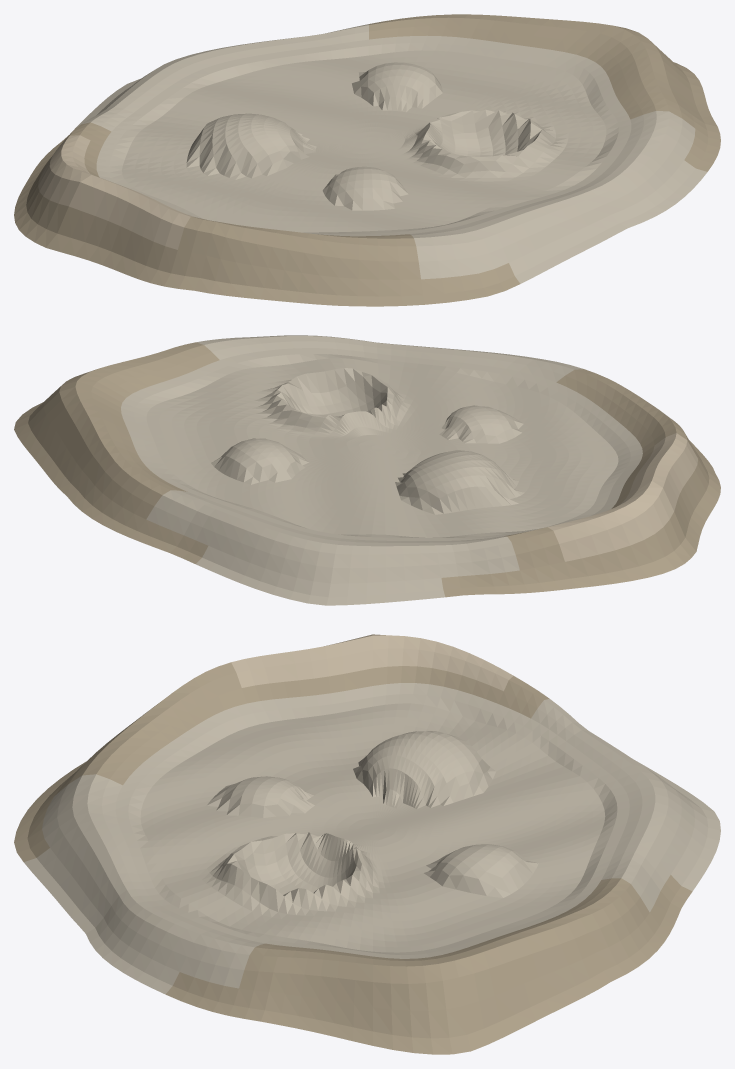
3 renders of one model, top to bottom at view 1: azimuth 30°, elevation 25°; view 2: azimuth 150°, elevation 25°; view 3: azimuth 270°, elevation 25°, orthographic. The views are drawn at different scales.
Visible parts, largest first — view 1: mudpot-world-surface-surface; view 2: mudpot-world-surface-surface; view 3: mudpot-world-surface-surface.
Boxes of the visible parts, x1,y1,x2,y2 form: mudpot-world-surface-surface: (14,14,720,306); mudpot-world-surface-surface: (14,335,720,605); mudpot-world-surface-surface: (14,634,720,1054).
Size of the model in its own units: 5.22 by 0.4861 by 4.18.
